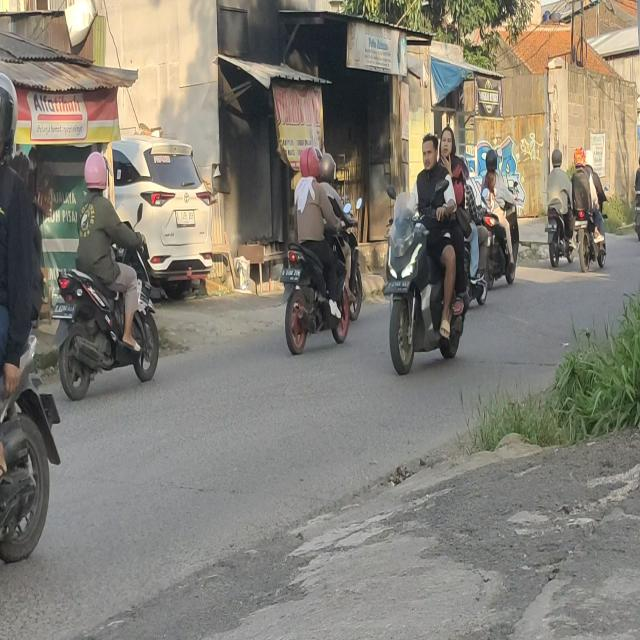helmet: (0, 70, 18, 150), (85, 150, 111, 189), (299, 144, 318, 182), (322, 154, 336, 182), (574, 148, 586, 168), (486, 150, 498, 170), (552, 148, 562, 167), (586, 150, 594, 168)
no-helmet: (420, 136, 437, 170), (440, 128, 455, 156)
